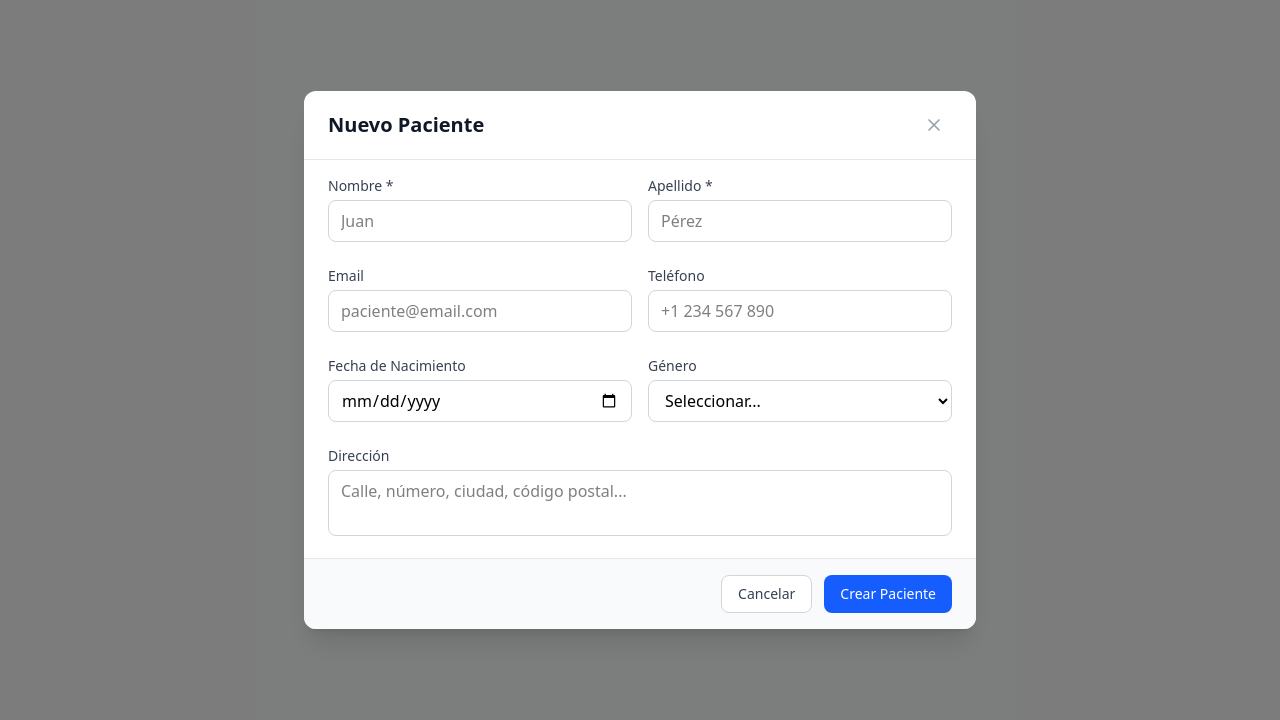
PatientFormModal › form validation › should show error for required lastName
Type "John" into the field with placeholder "Juan". click: (480, 221)
box: [328, 200, 632, 242]
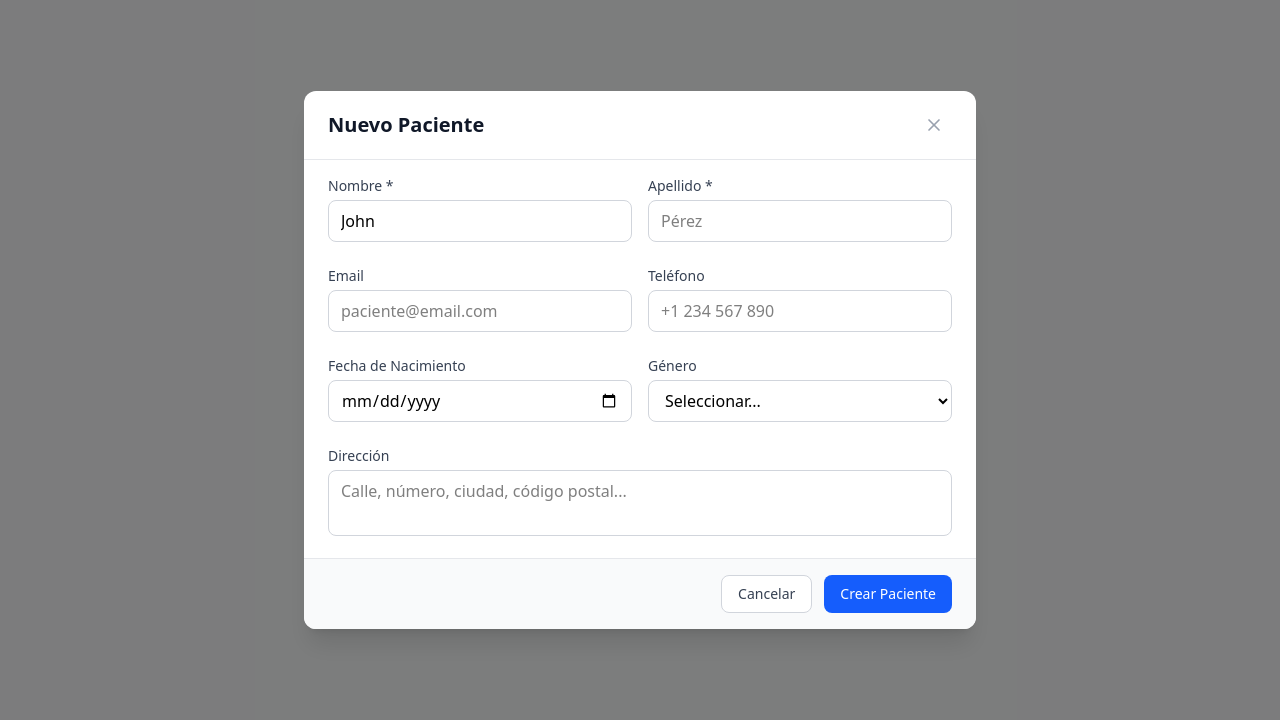
Click the button "Crear Paciente". click: (888, 594)
box: [824, 575, 952, 613]
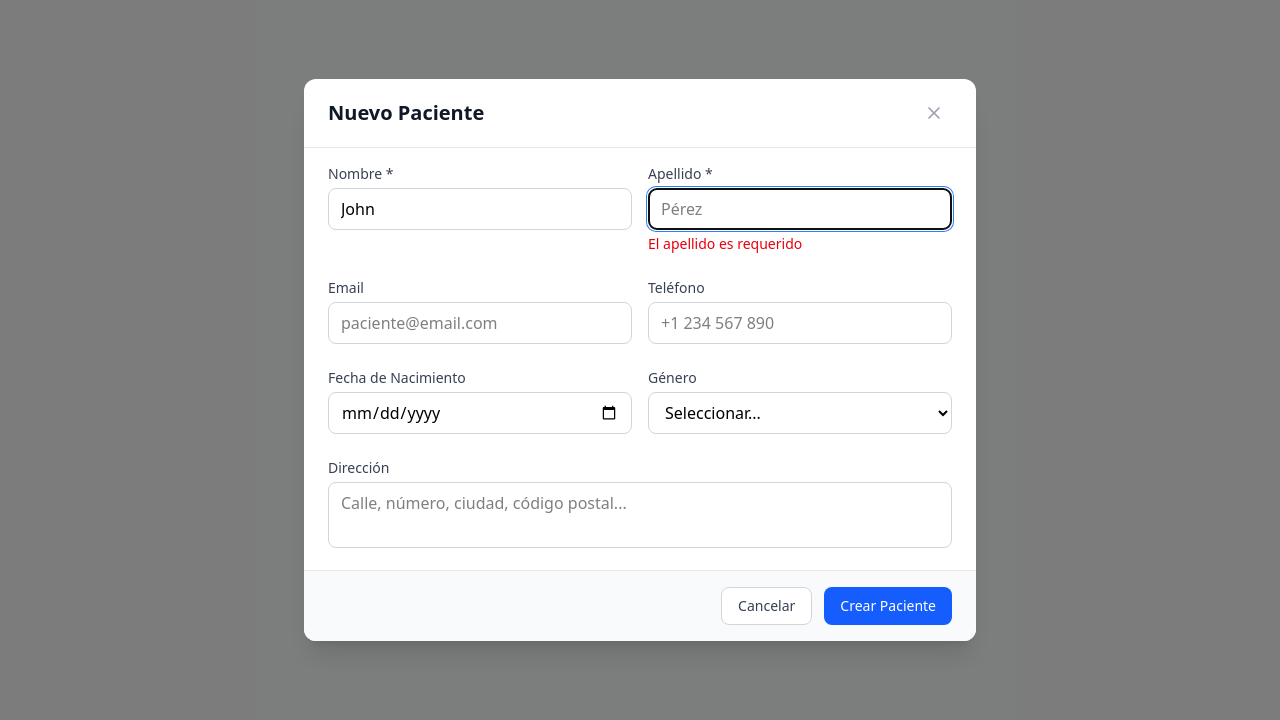
Expected: the text "El apellido es requerido" is shown, [648, 234, 802, 253]
